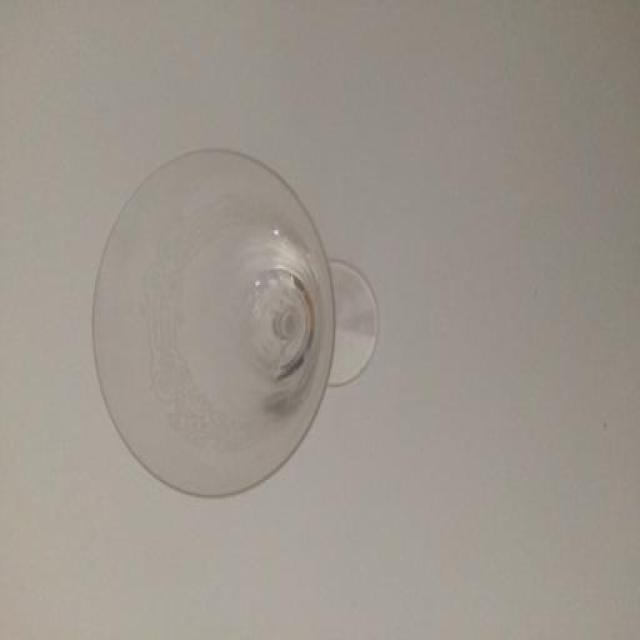glass: (90, 147, 376, 498)
